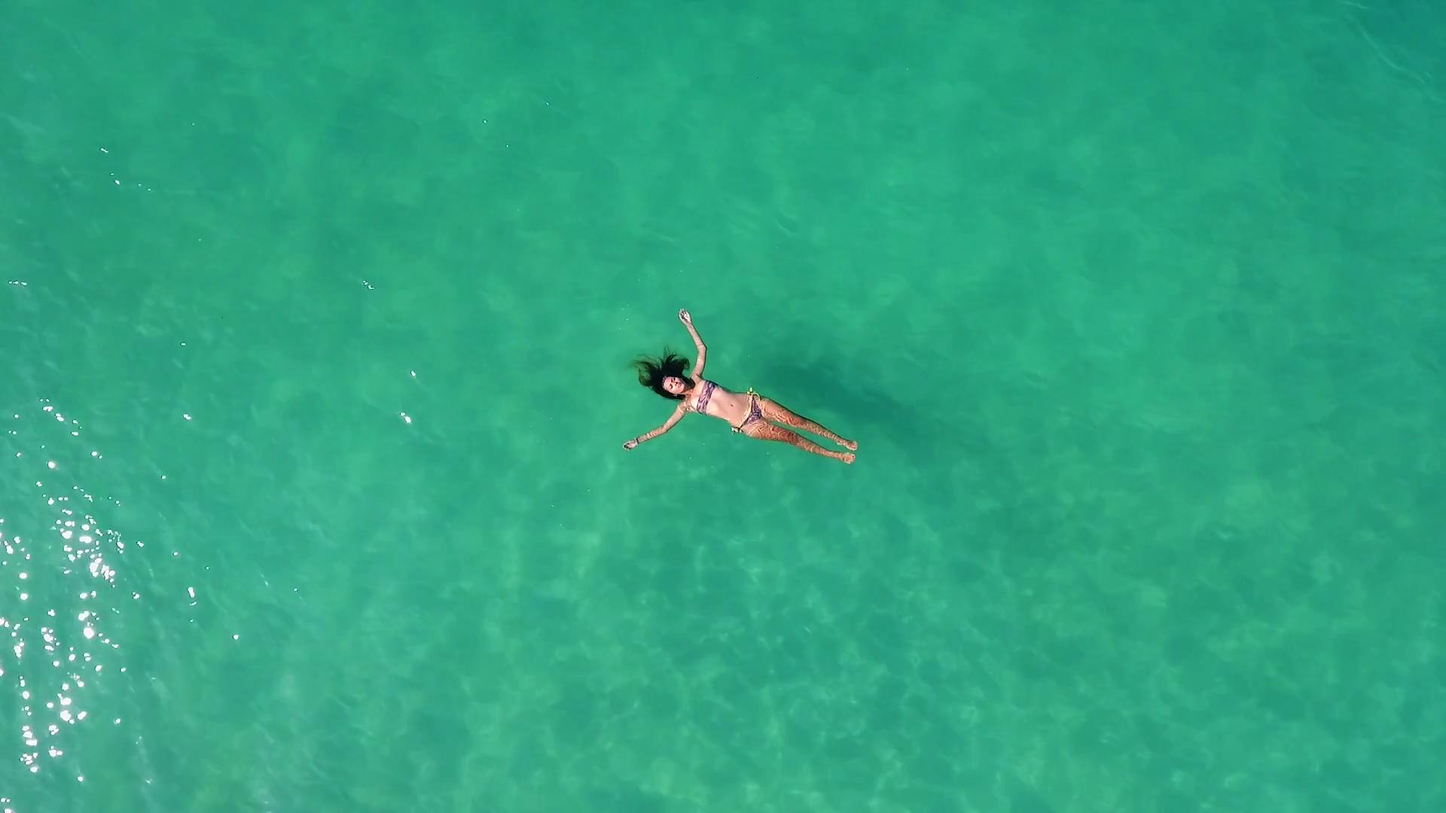swimmer: (620, 306, 860, 467)
